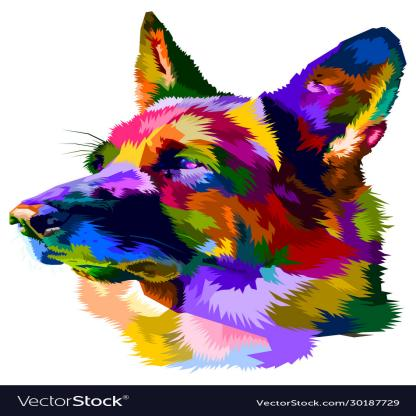dog: (11, 11, 405, 365)
